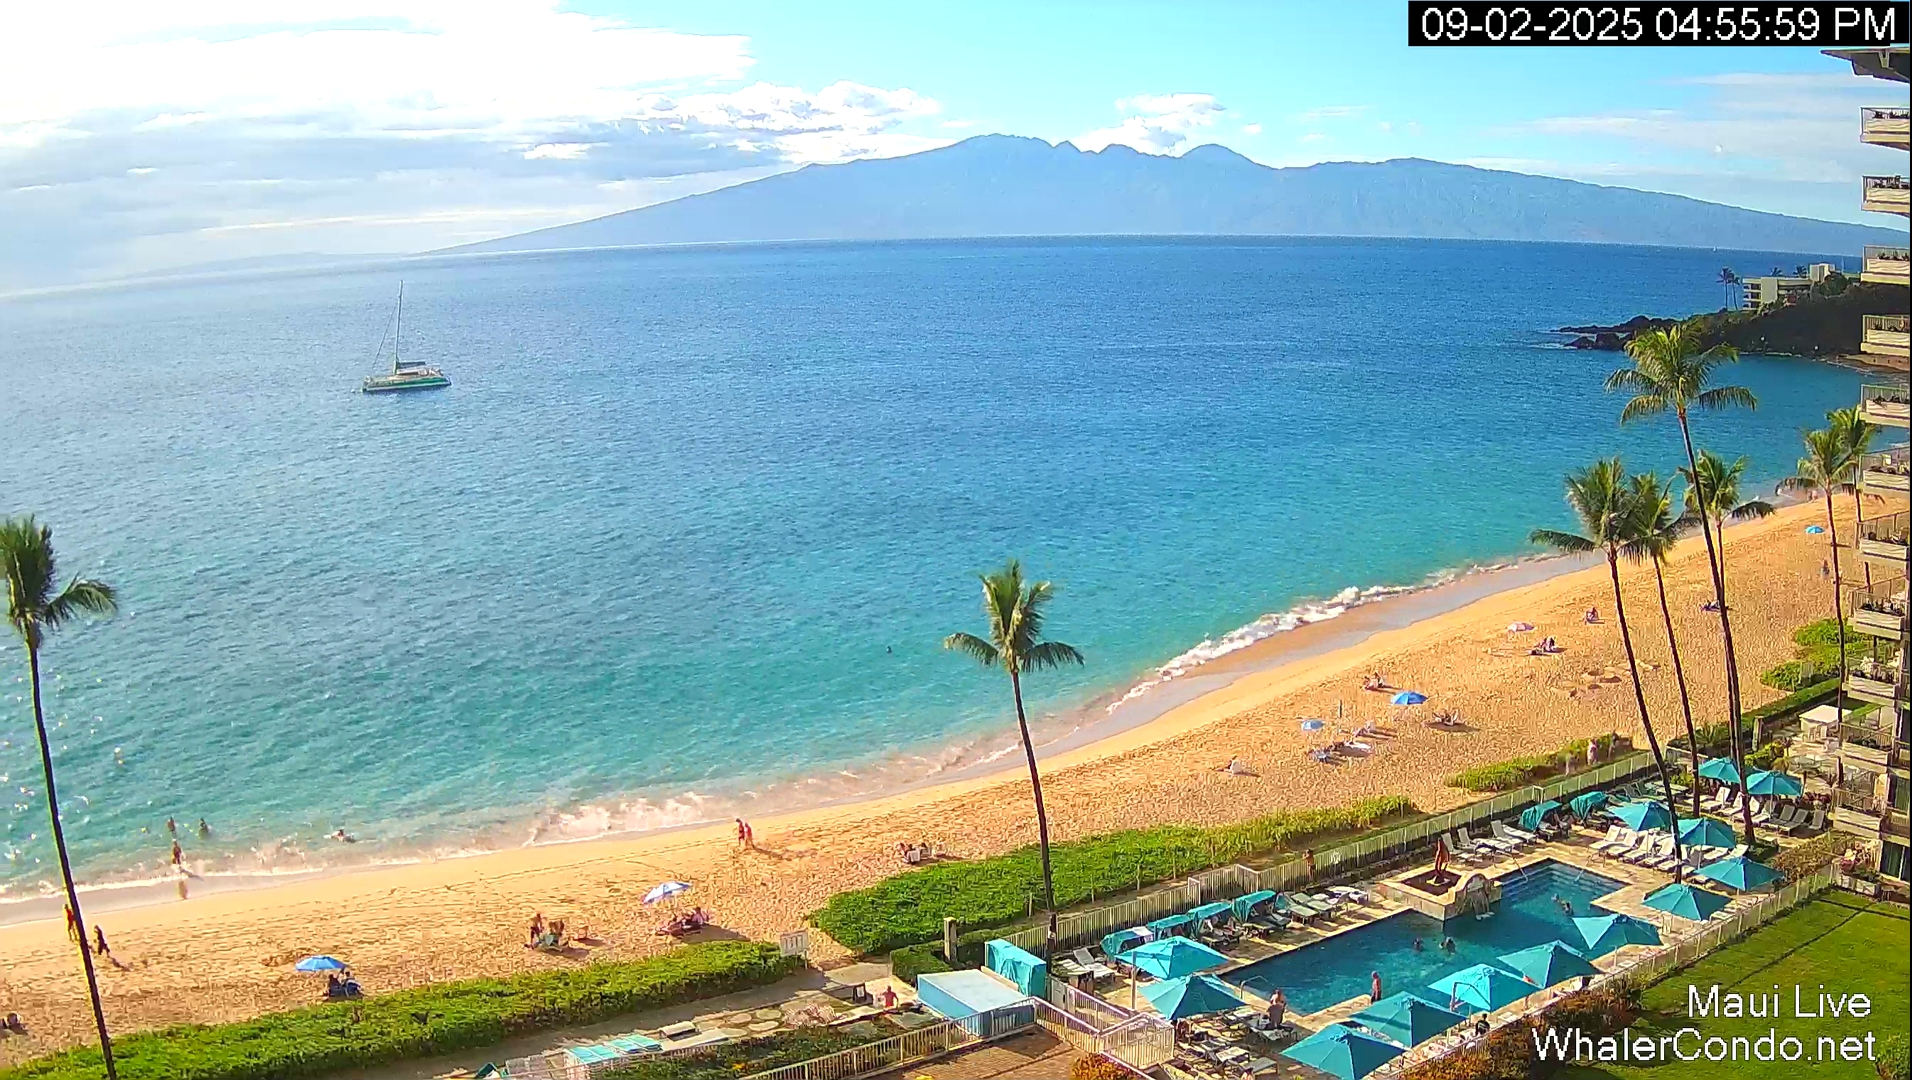boat: (436, 1029, 640, 1080), (361, 280, 452, 393)
person: (1268, 988, 1287, 1029), (548, 919, 568, 948), (93, 924, 111, 956), (529, 912, 545, 946), (878, 985, 899, 1009), (62, 904, 75, 940), (1302, 848, 1316, 881), (1370, 971, 1382, 1004), (1476, 1013, 1491, 1036), (327, 974, 342, 997), (735, 818, 745, 848), (744, 821, 754, 850), (172, 840, 183, 866), (1589, 738, 1599, 765), (533, 912, 545, 933), (691, 907, 705, 924), (1588, 607, 1599, 622), (1446, 938, 1456, 954), (199, 818, 209, 833), (1374, 672, 1384, 687), (337, 829, 345, 840)
